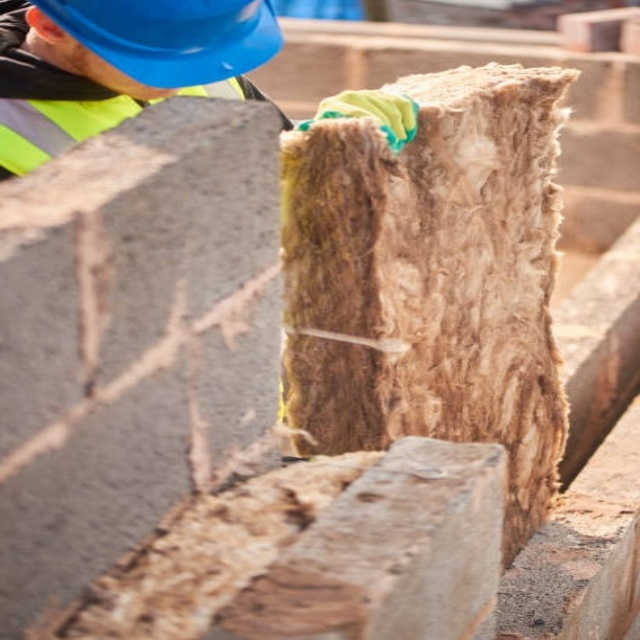Guantes: (293, 89, 418, 158)
